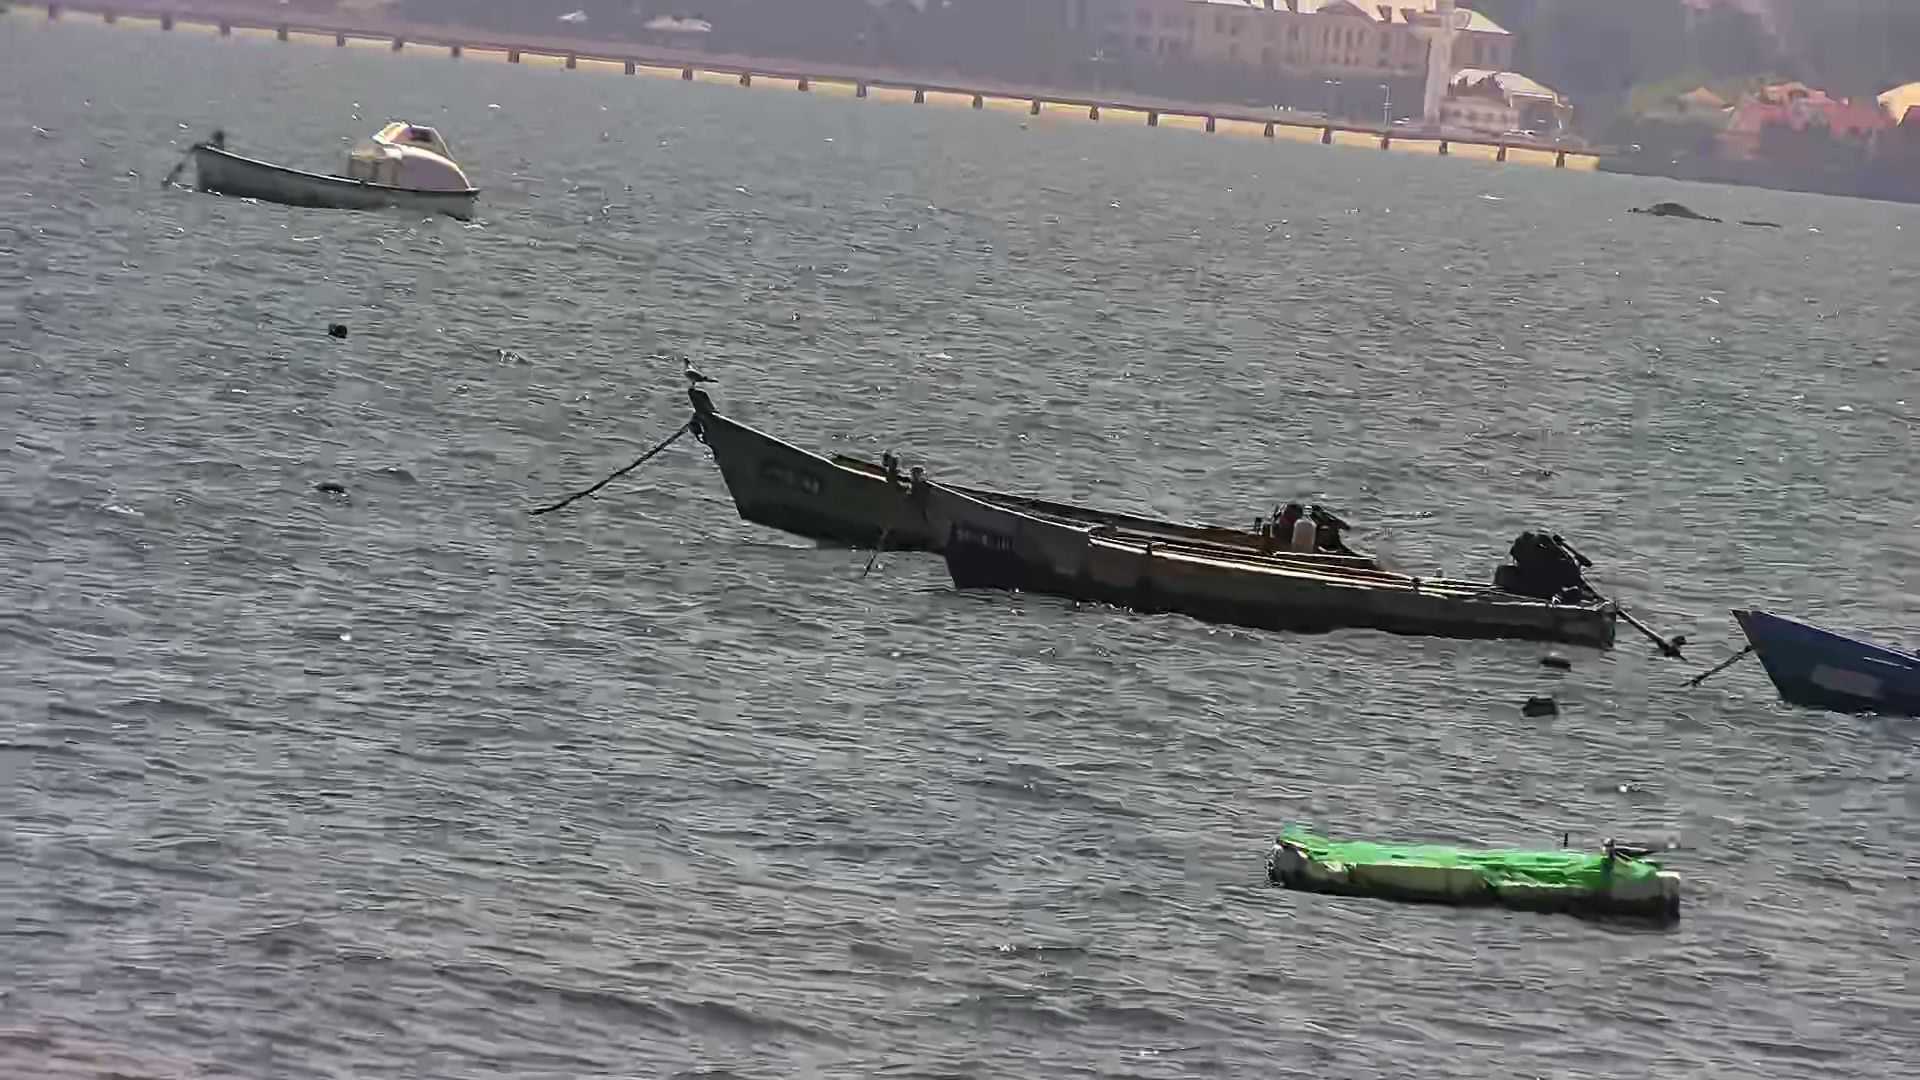ball: (1513, 684, 1580, 733), (302, 468, 353, 509), (1536, 640, 1593, 673), (316, 310, 363, 343)
boat: (589, 334, 1390, 575), (901, 460, 1701, 662), (1242, 814, 1677, 928), (161, 103, 514, 227)
rock: (1622, 181, 1720, 228)
